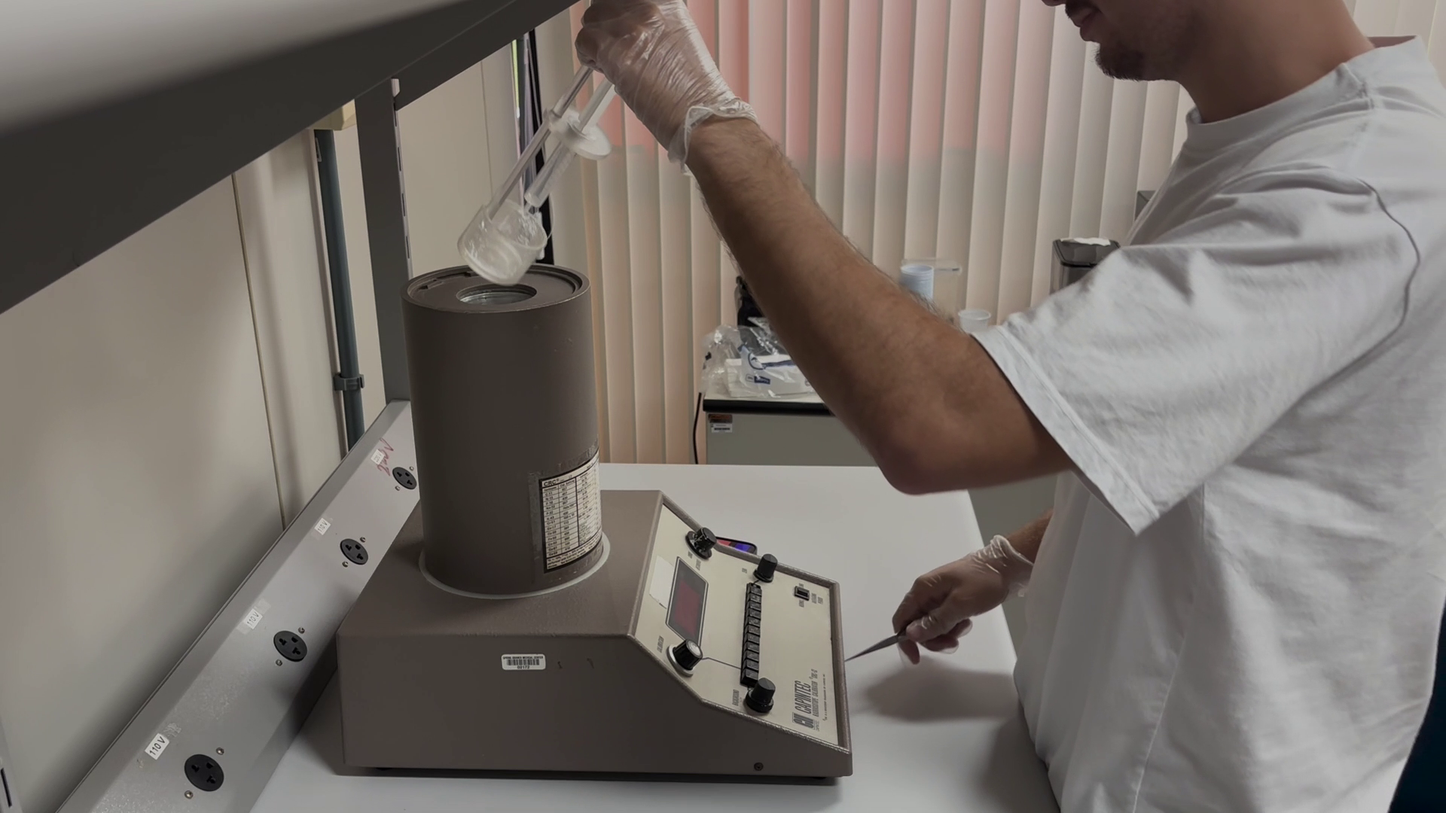Ativimetro: (399, 247, 610, 586)
Cesta: (455, 62, 616, 293)
Com_Luva: (572, 2, 751, 172), (890, 531, 1036, 672)
